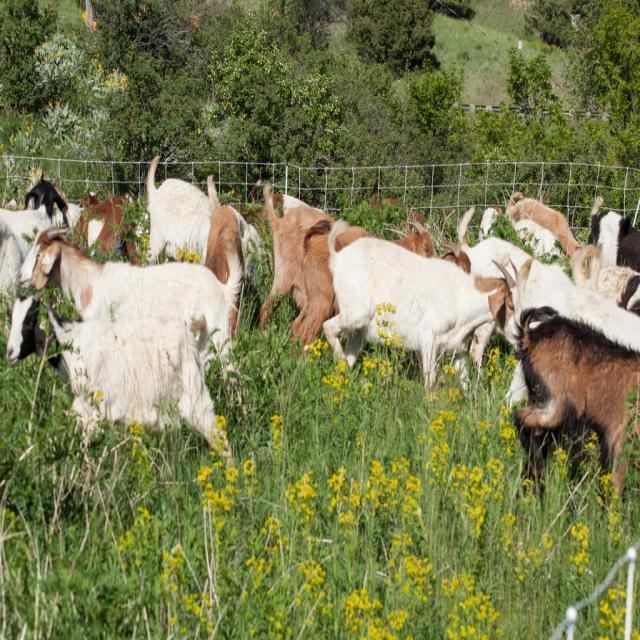Goat: (16, 201, 258, 416), (38, 299, 235, 477), (322, 216, 511, 400), (255, 180, 438, 358), (512, 304, 639, 505), (587, 194, 639, 272)
